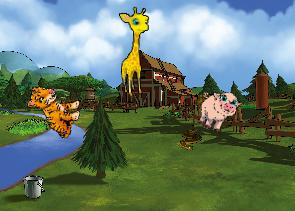giraffe: (118, 6, 153, 97)
pig: (192, 84, 243, 137)
tiger: (21, 82, 85, 140)
